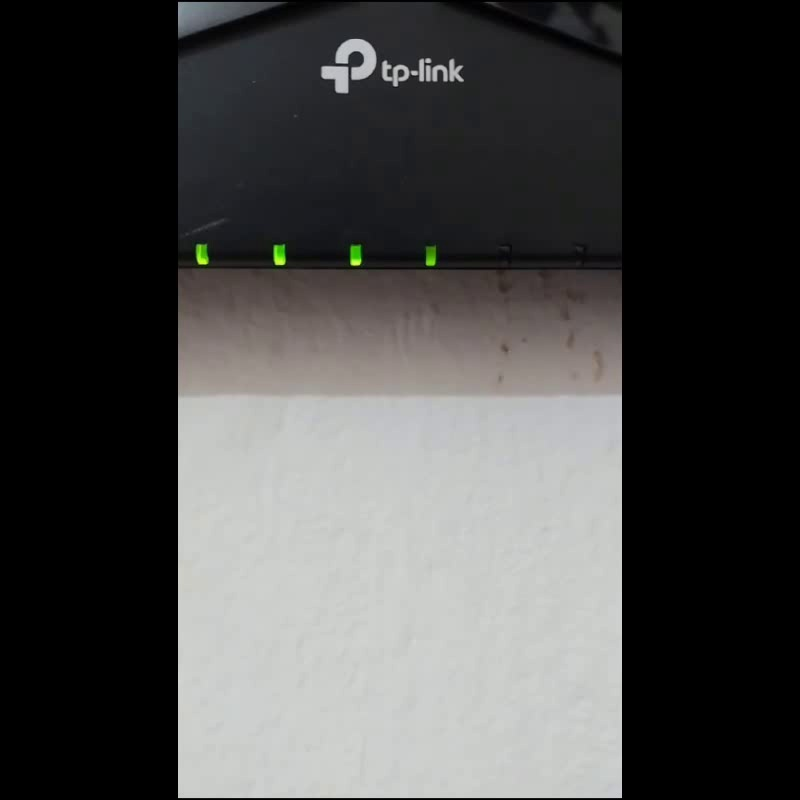off: (499, 244, 510, 263), (574, 245, 584, 263)
on_green: (194, 243, 209, 264), (273, 244, 285, 265), (425, 245, 436, 266), (350, 243, 361, 264)
